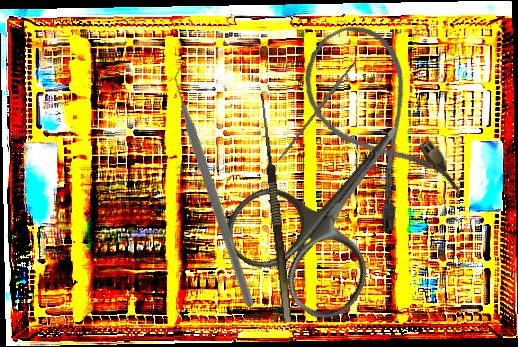Cannula: (286, 11, 467, 238)
Chopper: (89, 60, 346, 308)
Hook Surgical: (247, 93, 292, 324)
Iris Scissors: (212, 80, 457, 332)
Scalpel Handle: (276, 60, 358, 163)
